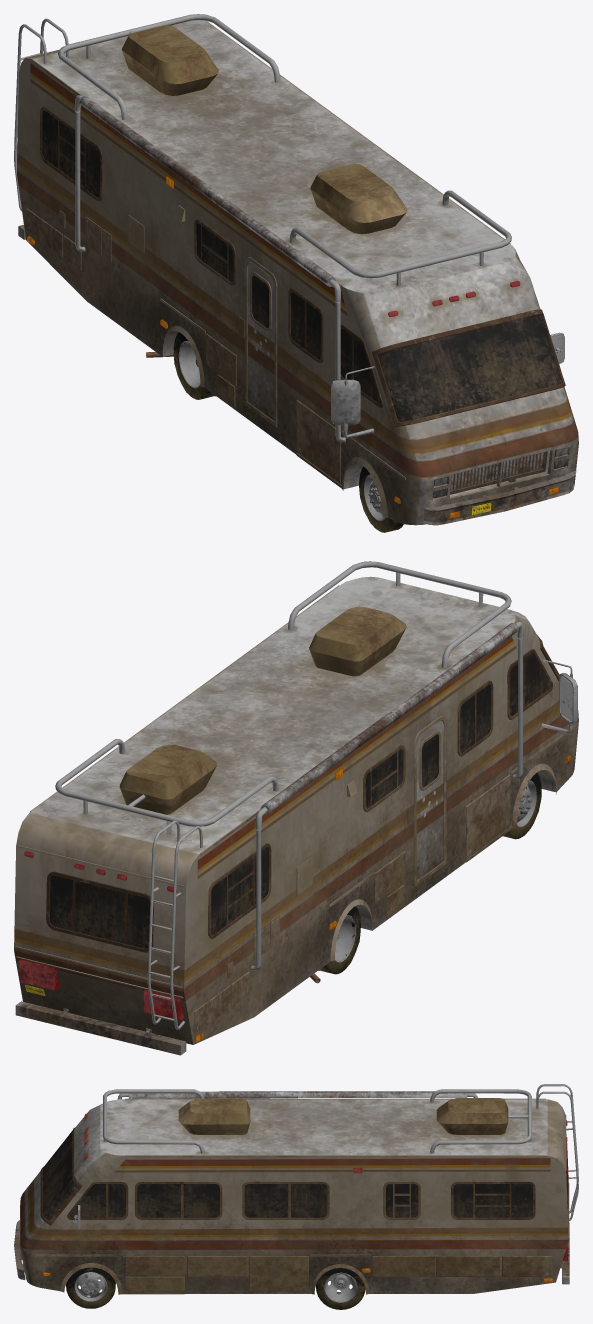
The picture shows the model from 3 angles, top to bottom: view 1: azimuth 30°, elevation 25°; view 2: azimuth 150°, elevation 25°; view 3: azimuth 270°, elevation 25°; orthographic projection. The views are drawn at different scales.
Visible parts, largest first — view 1: Windows_Windows_0; view 2: Windows_Windows_0; view 3: Windows_Windows_0.
Boxes of the visible parts, x1=… form: Windows_Windows_0: x1=14, y1=14, x2=578, y2=532; Windows_Windows_0: x1=14, y1=561, x2=578, y2=1055; Windows_Windows_0: x1=14, y1=1084, x2=578, y2=1309.
Size of the model in its own units: 2.39 by 2.62 by 7.48.
Materials: 13 (13 with a texture image).
